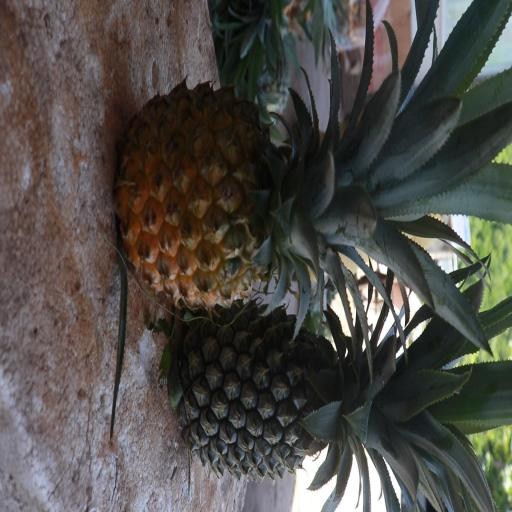Pineapple - v8 v1: (120, 92, 456, 302)
